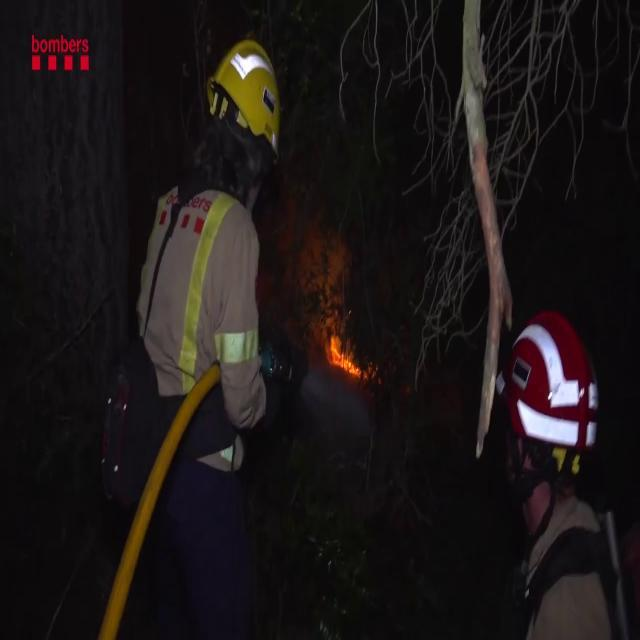Fire: (325, 322, 363, 384)
